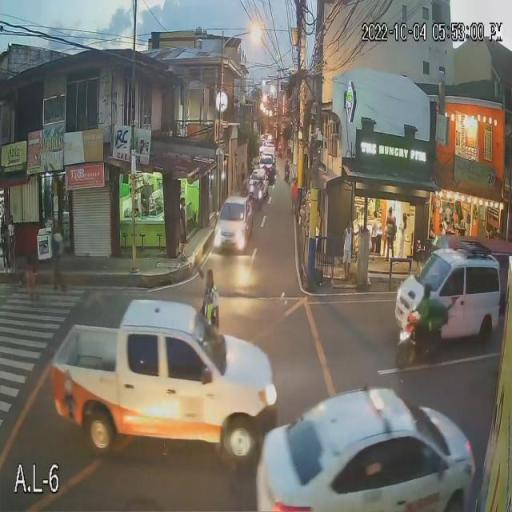helmet: (416, 280, 432, 297)
motorcycle: (394, 311, 442, 371)
rider: (413, 280, 446, 348)
